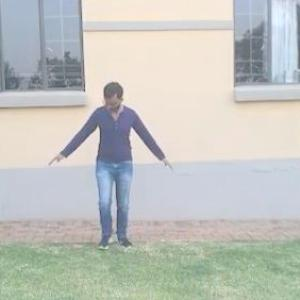land: (46, 59, 188, 272)
